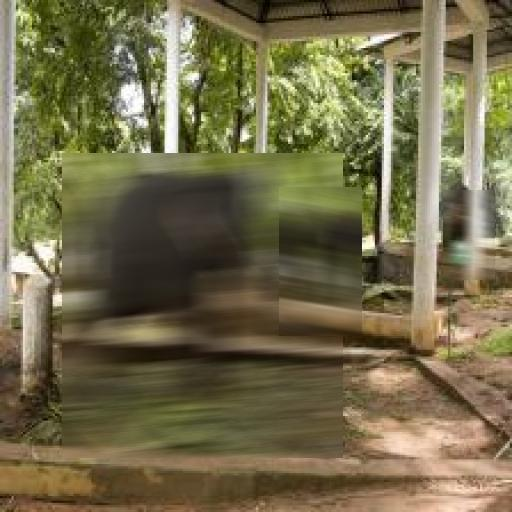Elephant: (62, 153, 343, 458), (279, 187, 362, 336), (443, 190, 495, 280)
